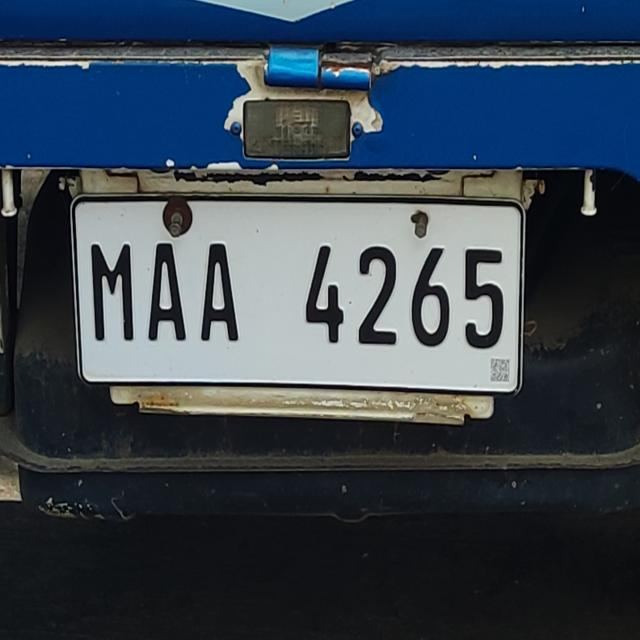plate: (67, 188, 530, 400)
